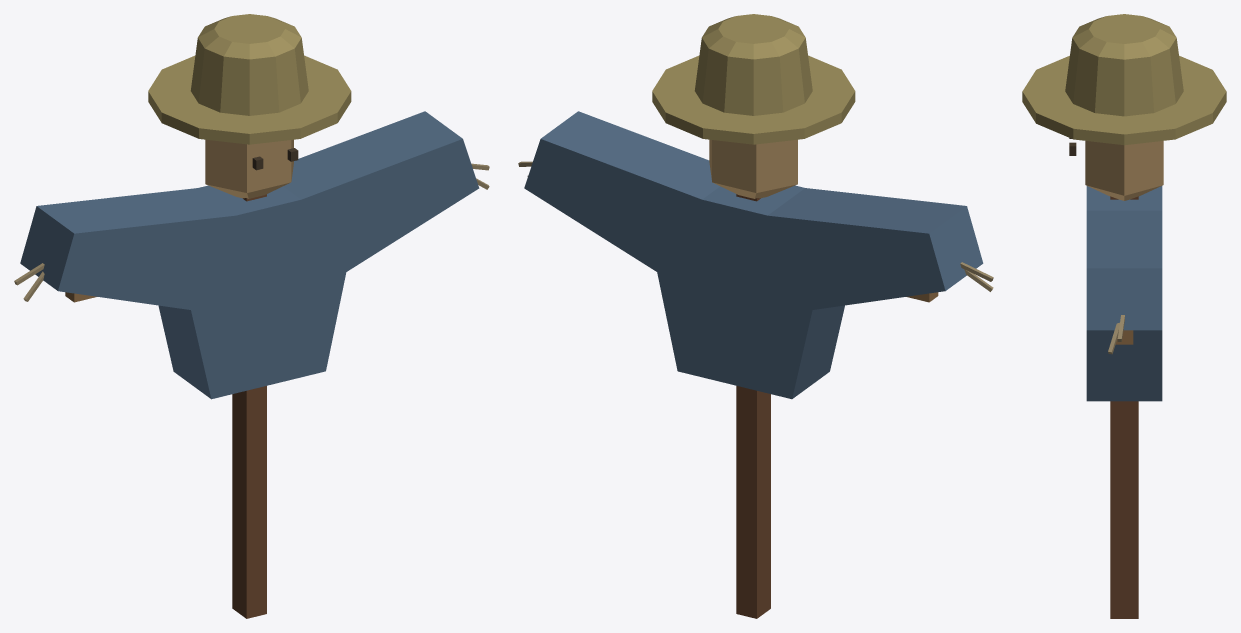
File: Prop_Daily_Scarecrow_001_LOD1.glb
The picture shows the model from 3 angles, left to right: view 1: azimuth 30°, elevation 25°; view 2: azimuth 150°, elevation 25°; view 3: azimuth 270°, elevation 25°; orthographic projection.
Visible parts, largest first — view 1: Prop_Daily_Scarecrow_001_LOD1; view 2: Prop_Daily_Scarecrow_001_LOD1; view 3: Prop_Daily_Scarecrow_001_LOD1.
Boxes of the visible parts, x1,y1,x2,y2 form: Prop_Daily_Scarecrow_001_LOD1: [14, 14, 489, 618]; Prop_Daily_Scarecrow_001_LOD1: [518, 14, 993, 618]; Prop_Daily_Scarecrow_001_LOD1: [1022, 14, 1226, 618].
Size of the model in its own units: 2.32 by 2.72 by 0.86.
